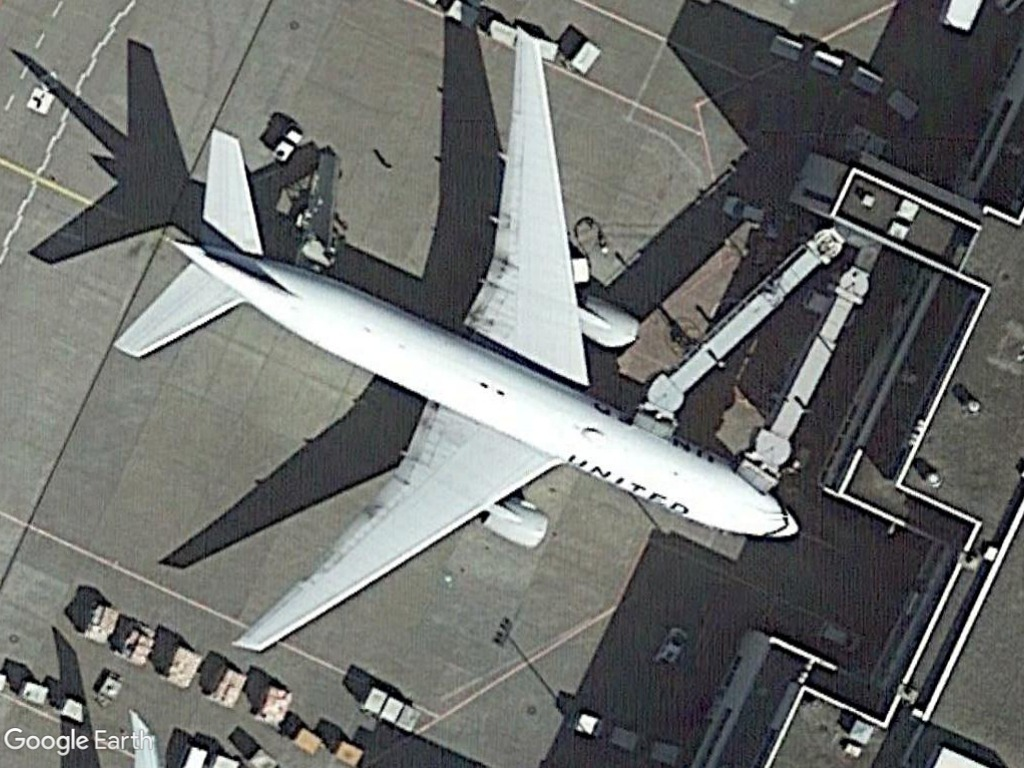airliner: (112, 15, 805, 666)
